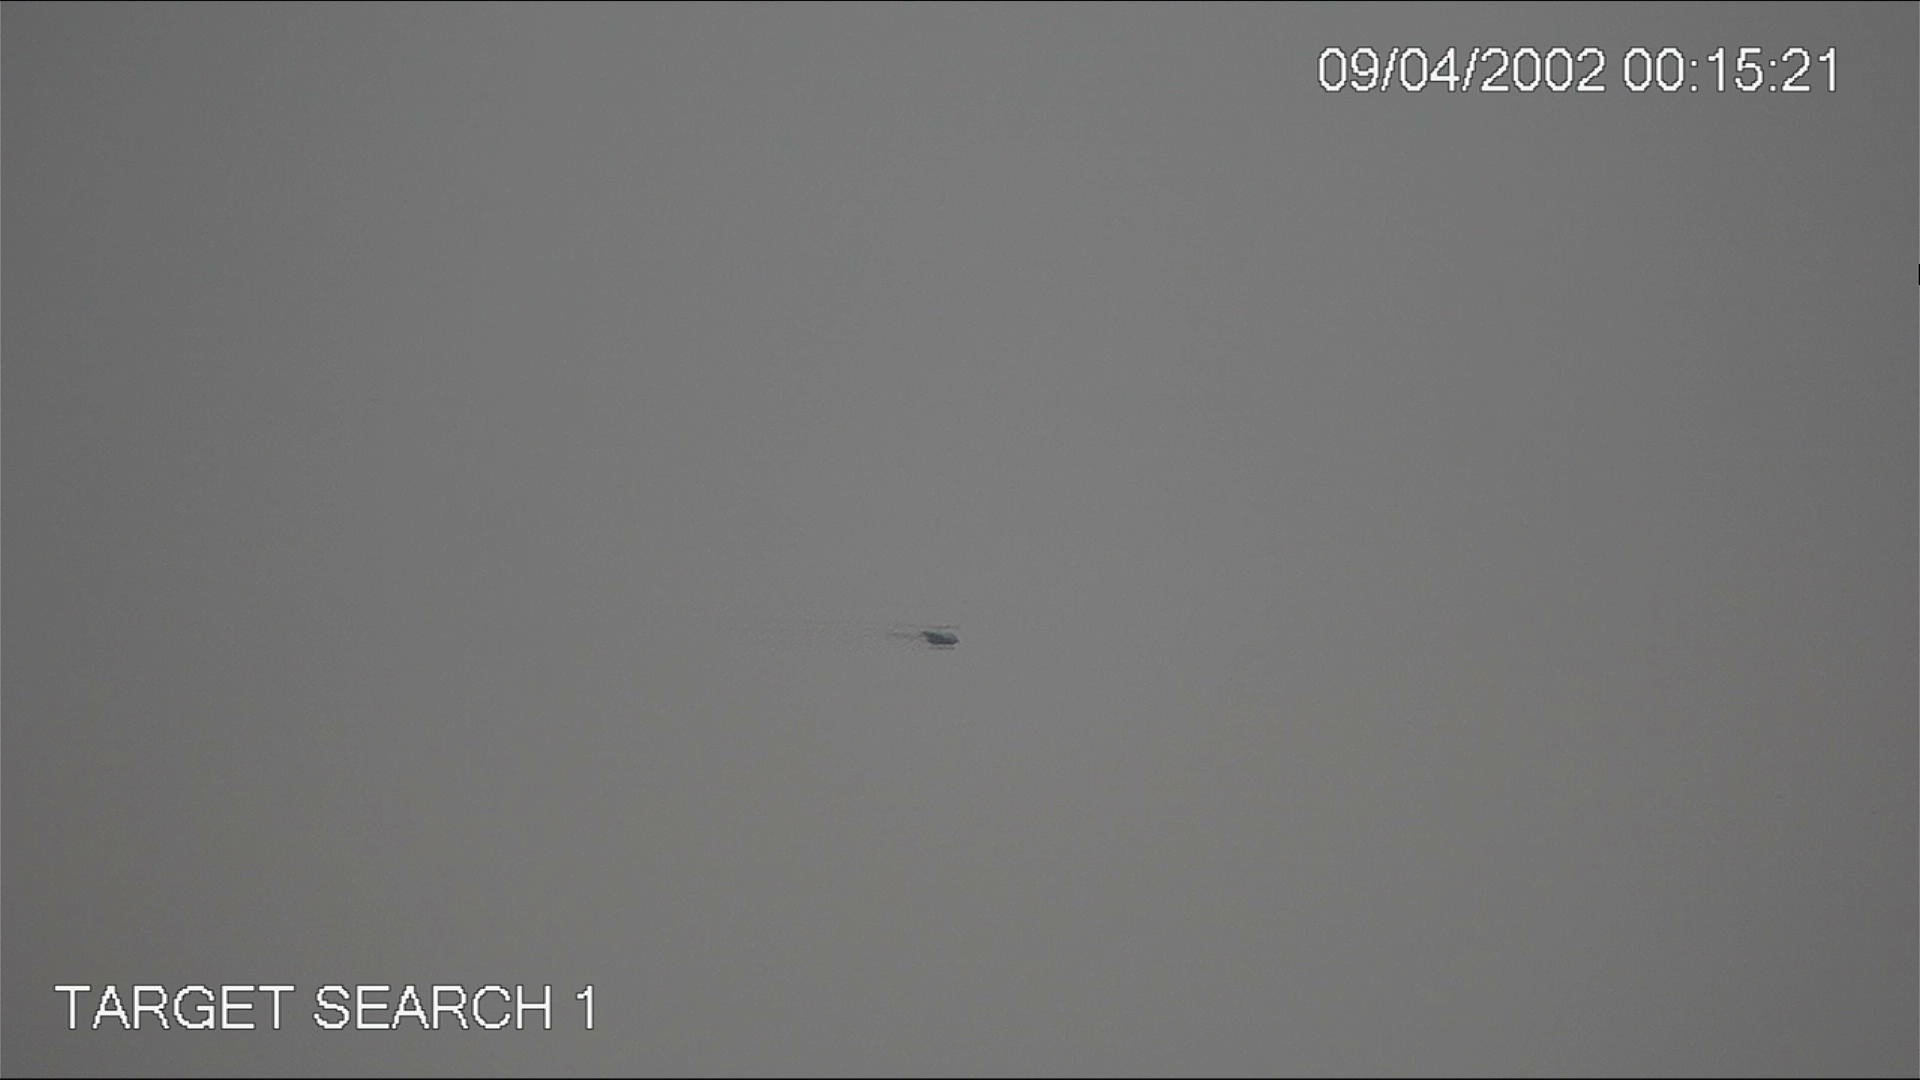SU_30: (897, 615, 971, 653)
